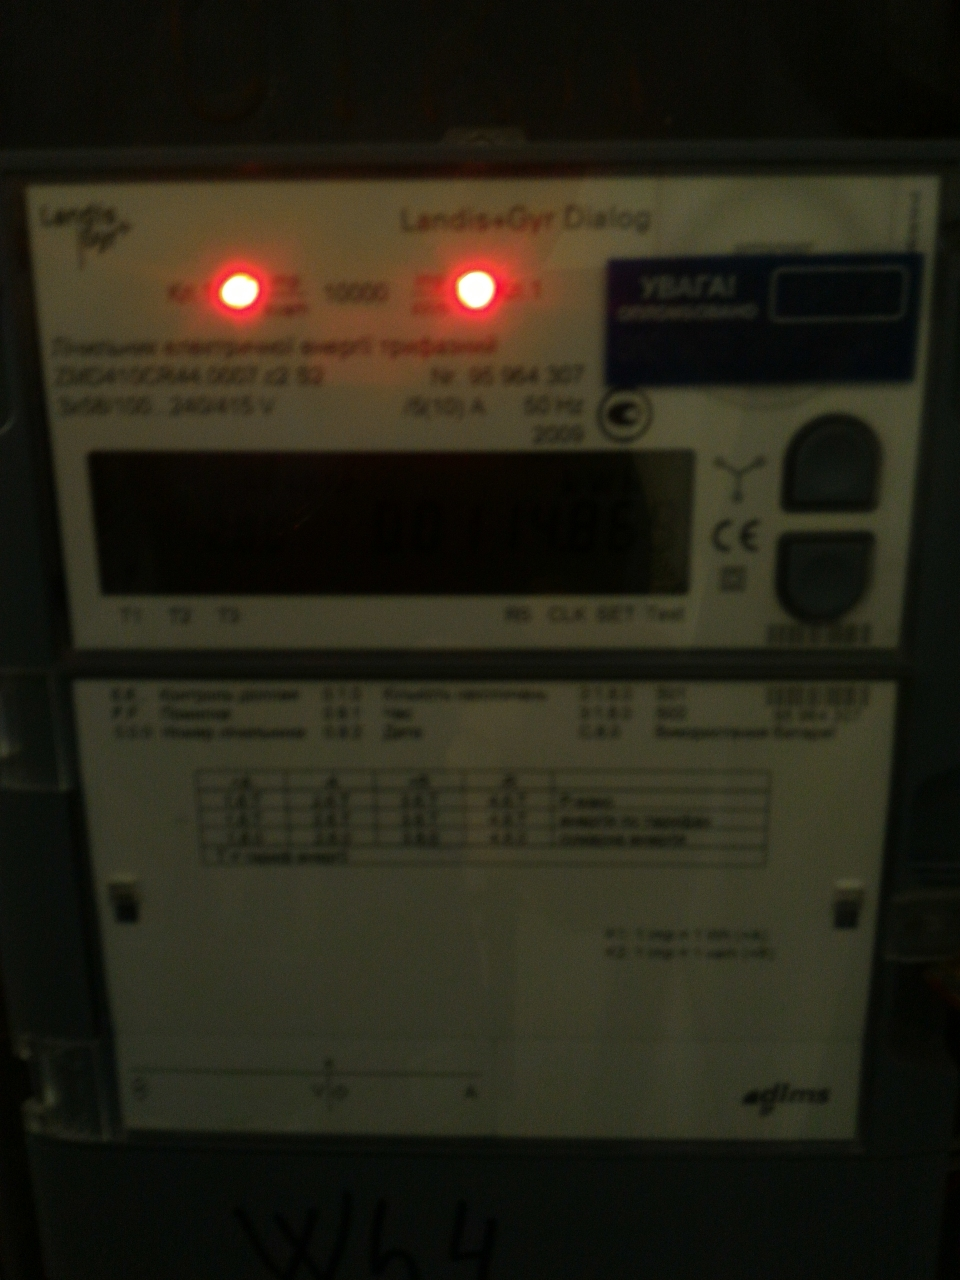screen: (58, 414, 725, 628)
